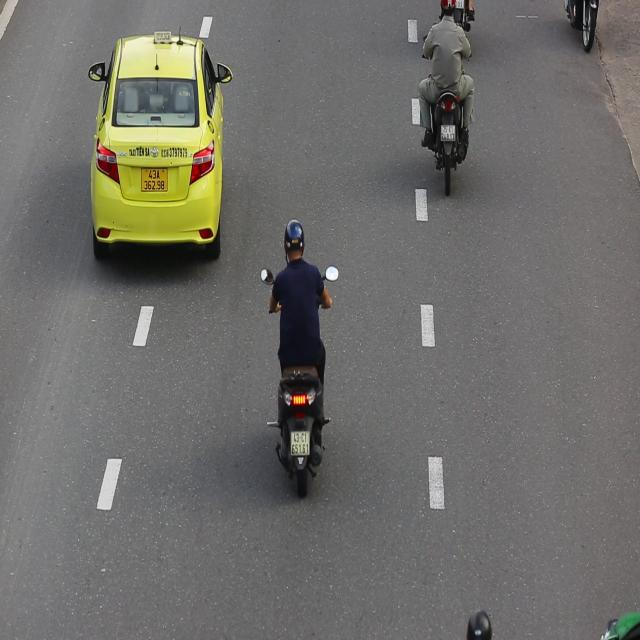motorbike: (258, 212, 342, 504), (415, 0, 480, 203)
